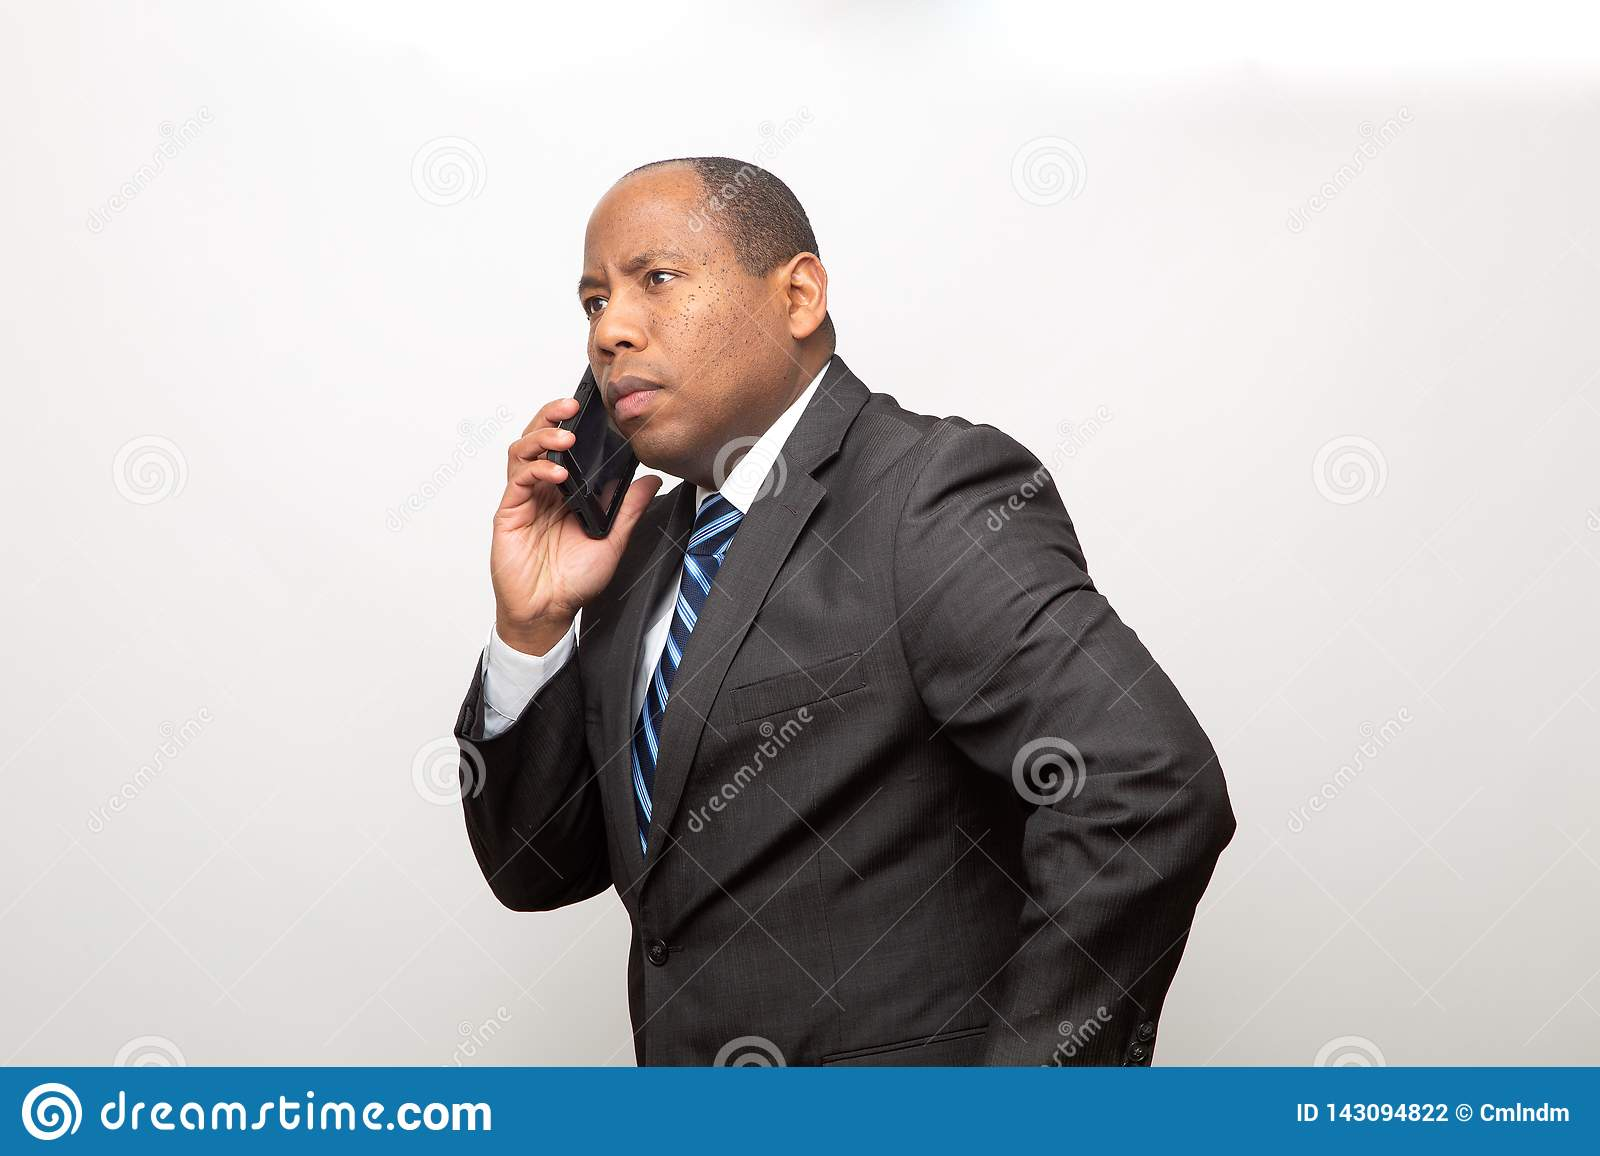phone: (548, 363, 641, 558)
talk: (491, 228, 709, 637)
